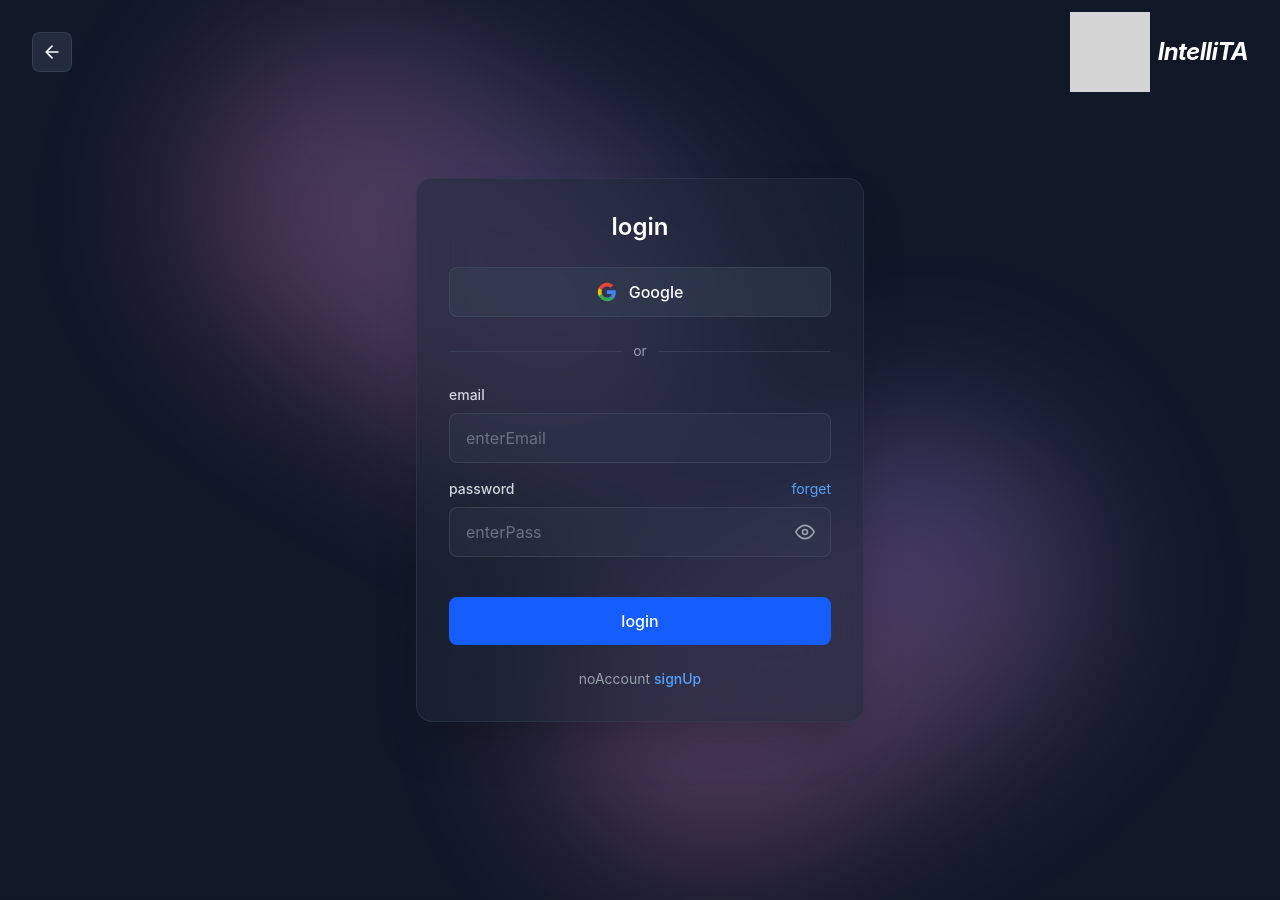
it: Login — email/password flow › wrong-password error displays errWrongPassword
Type "student@stu.kau.edu.sa" into the field labelled "email".
click(640, 438); type("student@stu.kau.edu.sa")  # box top-left (449, 413), bottom-right (831, 463)
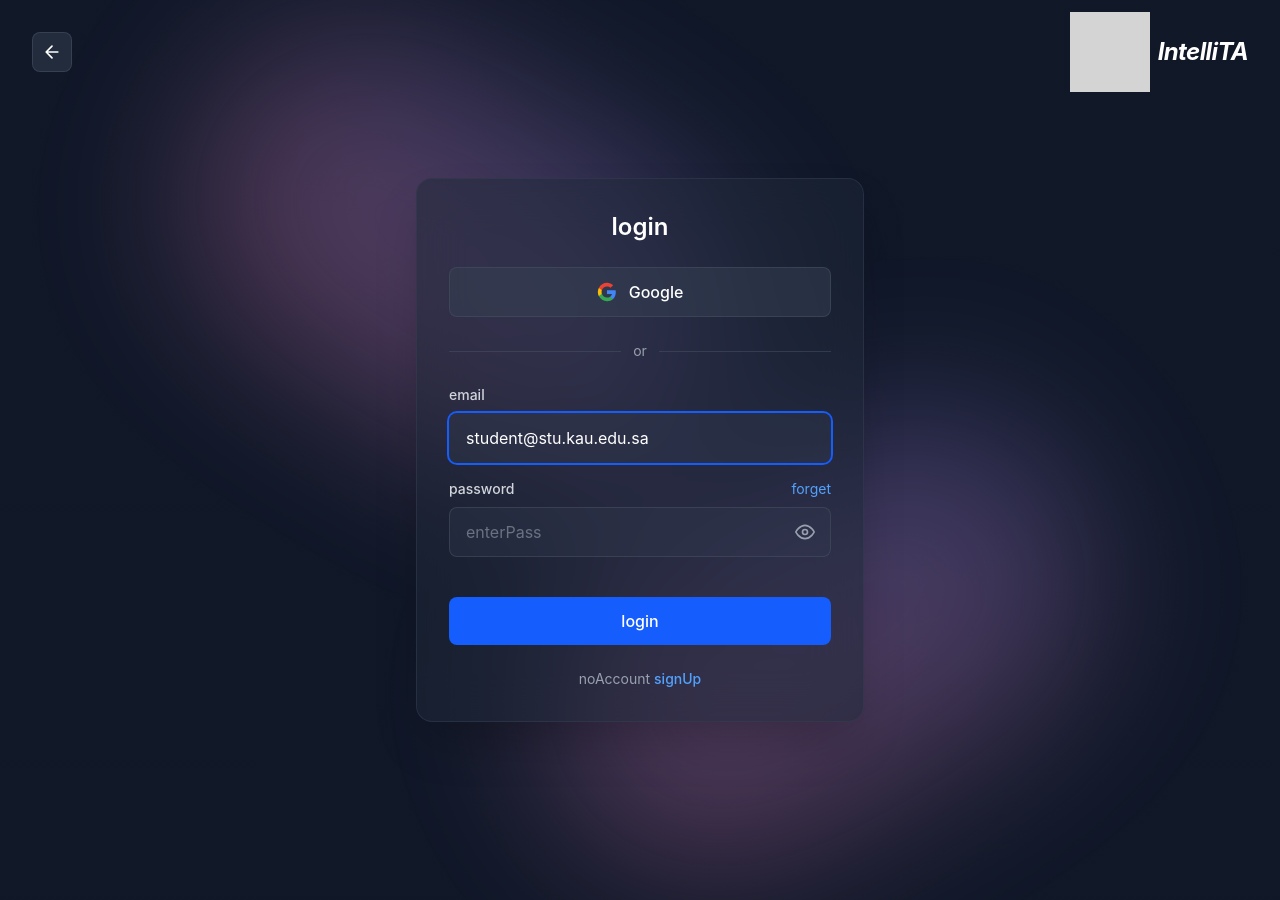
Type "password123" into the password field labelled "password".
click(640, 532); type("password123")  # box top-left (449, 507), bottom-right (831, 557)
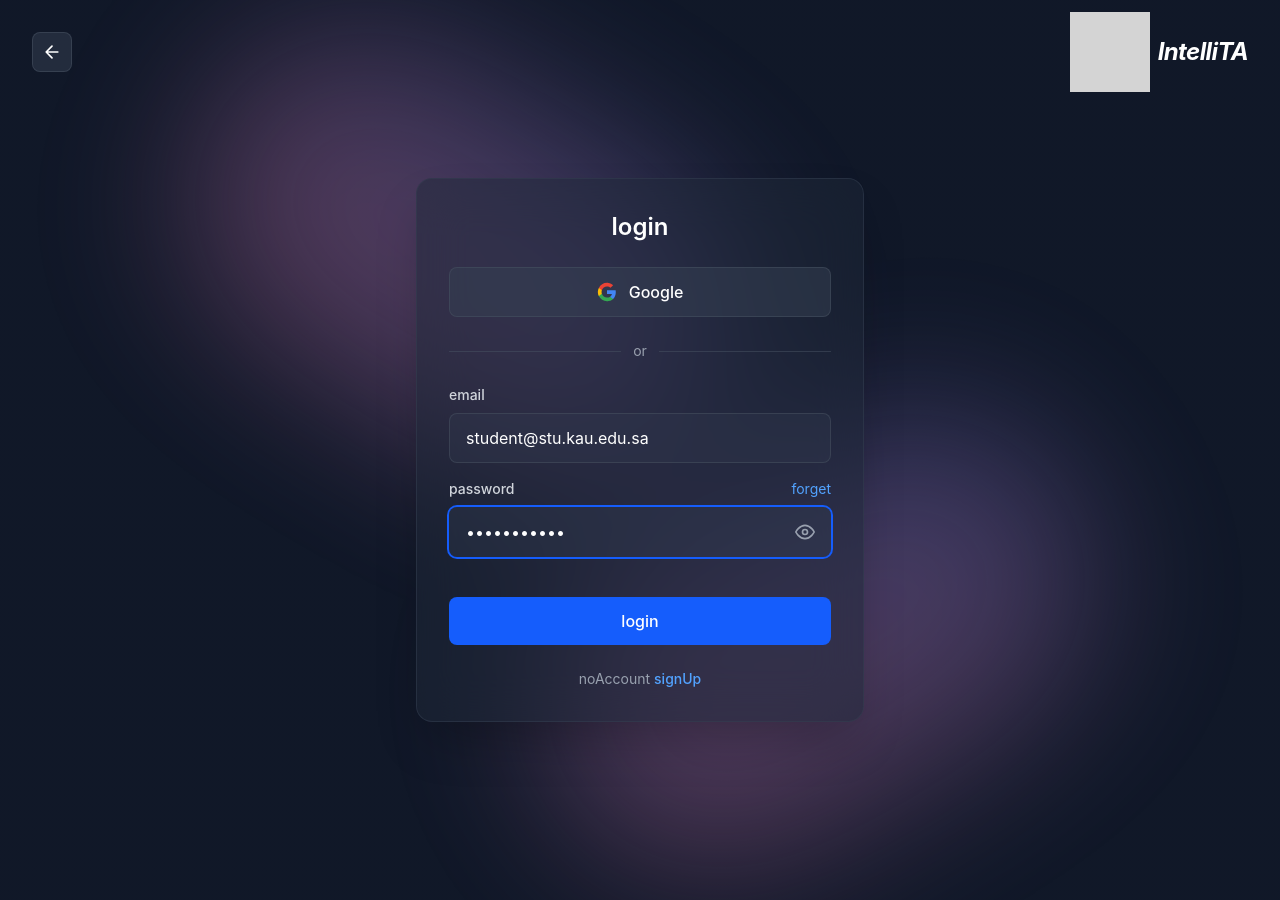
Click the submit button.
click(640, 621)  # box top-left (449, 597), bottom-right (831, 645)
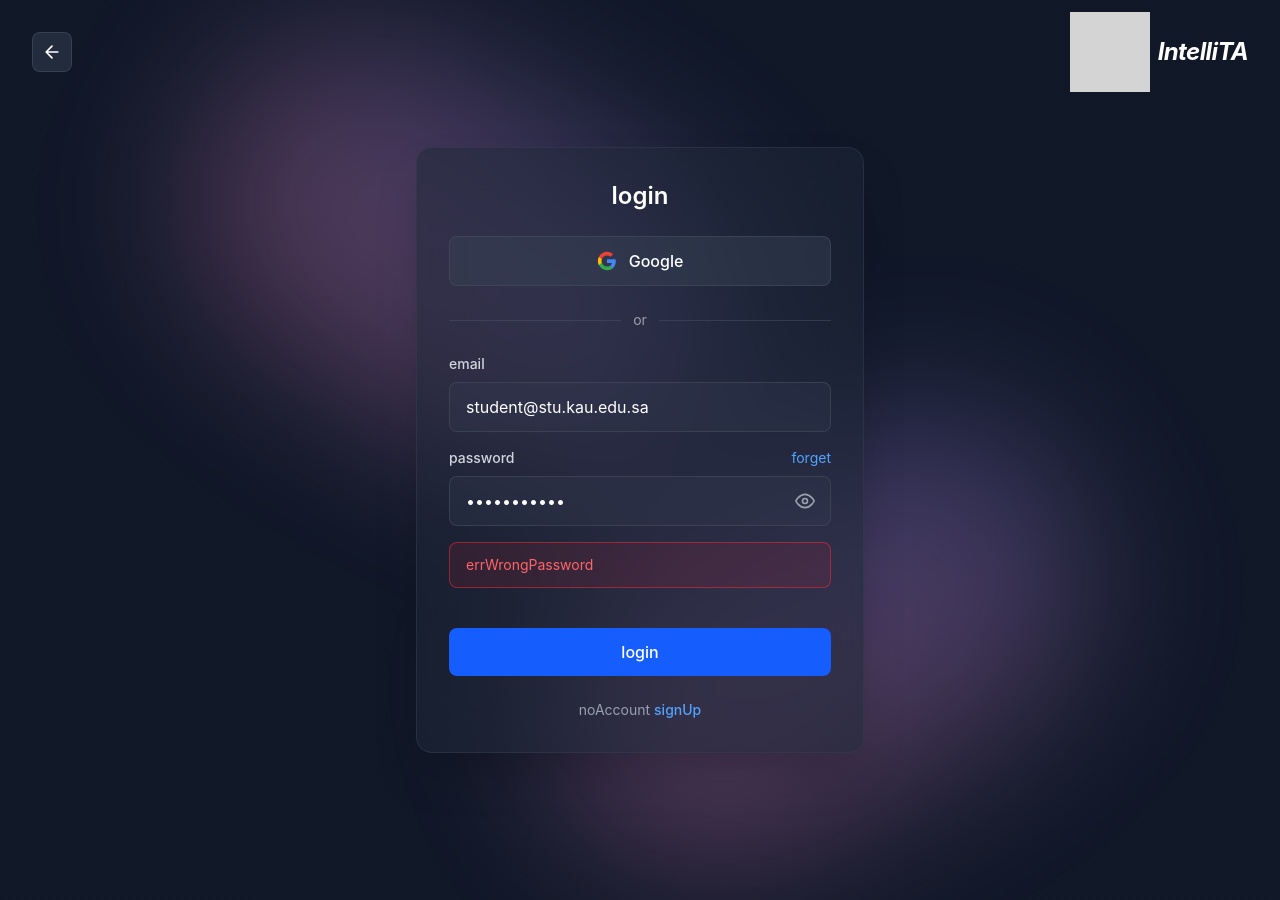
expect the text "errWrongPassword" is shown: met, box top-left (449, 542), bottom-right (831, 588)
